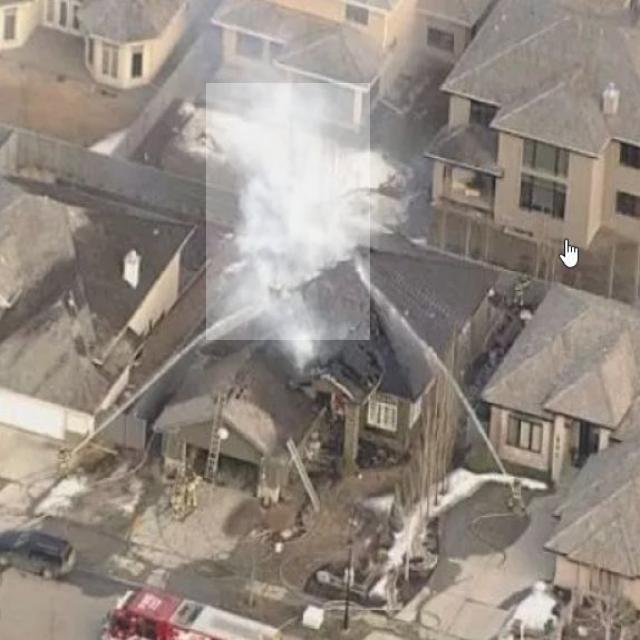Smoke: (206, 83, 370, 340)
